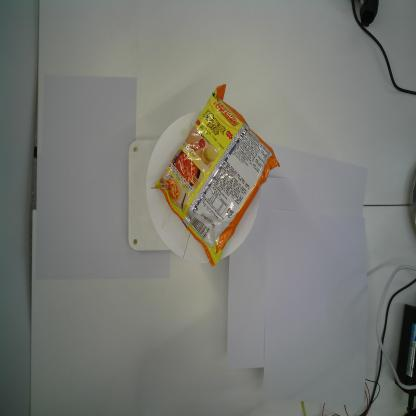Instant Noodles: (150, 84, 280, 269)
